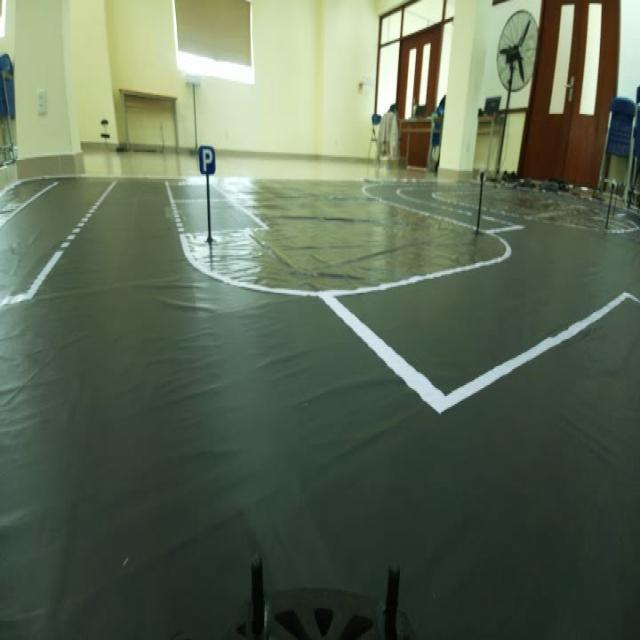parking: (197, 136, 218, 182)
